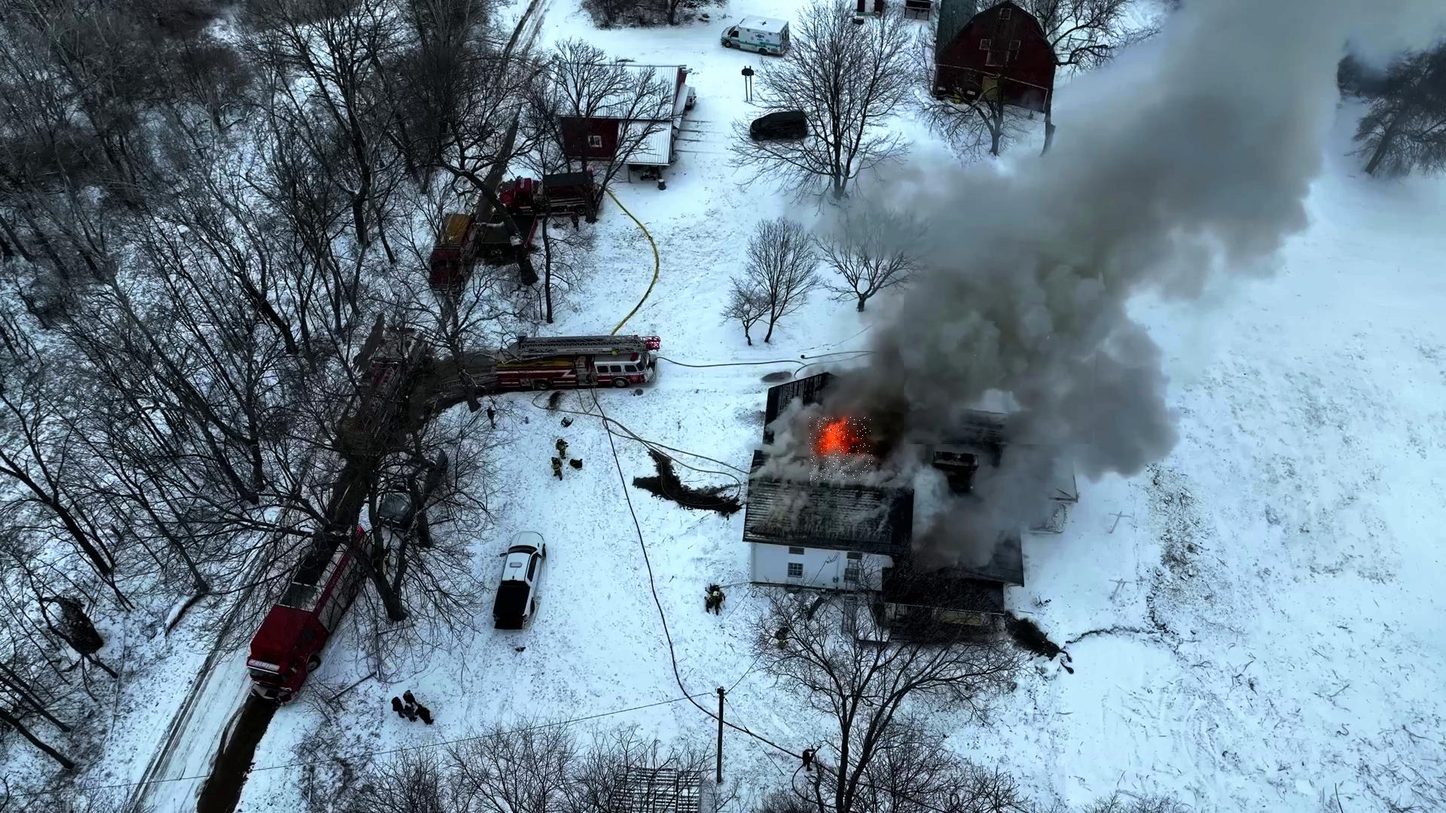fire: (810, 417, 873, 480)
smoke: (904, 240, 1102, 444)
